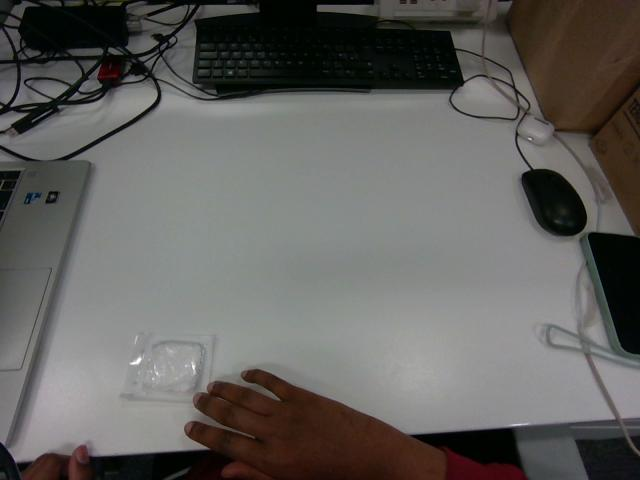gauze: (121, 332, 214, 400)
